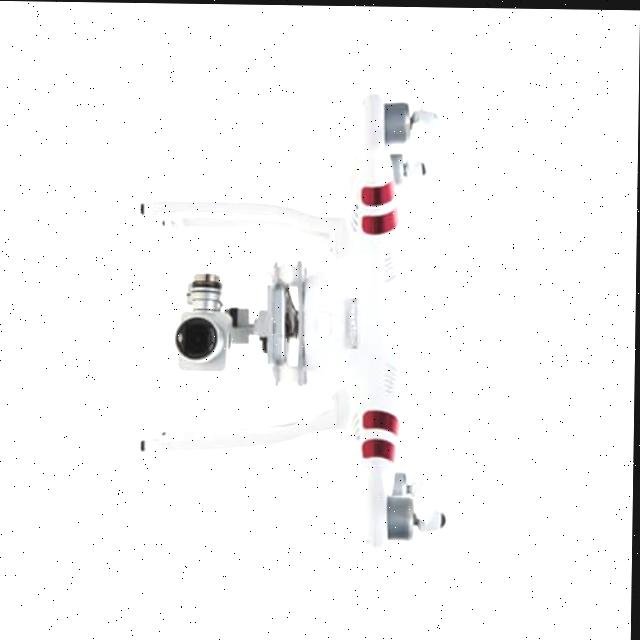drone: (121, 8, 478, 640)
